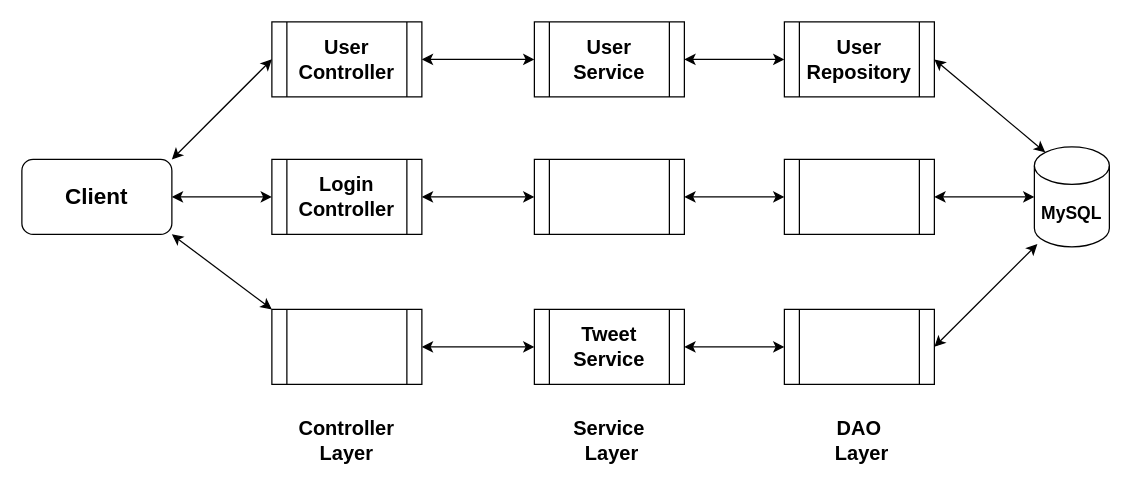
The diagram is 1131 pixels wide and 494 high, and some of its shapes have lost their labels. The shapes that lost their labels are listed below. From the top down, each one's centre as x and y in pixels, then its label:
At point 608,196: "Login Service".
At point 858,196: "Login Repository".
At point 346,346: "Tweet Controller".
At point 858,346: "Tweet Repository".
